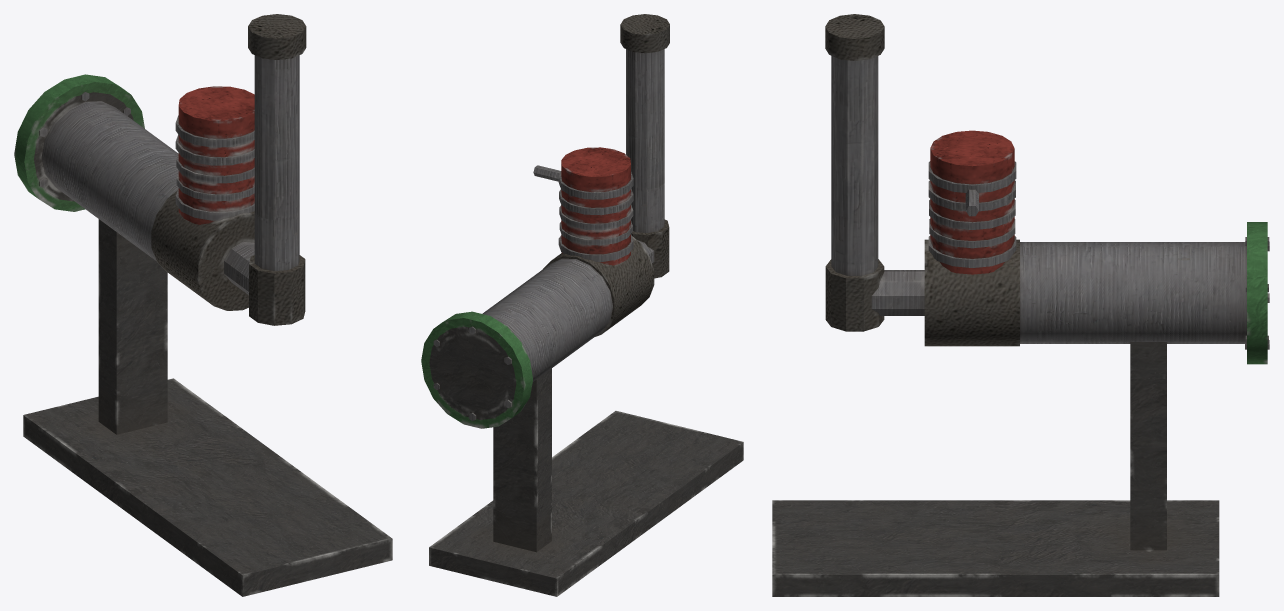
The model's file is feValveRelief_HD.fbx.
3 views of the same model, side by side, from view 1: azimuth 30°, elevation 25°; view 2: azimuth 150°, elevation 25°; view 3: azimuth 270°, elevation 25° (orthographic). The views are drawn at different scales.
Parts seen in each view (by area): view 1: feValveRelief_Base; view 2: feValveRelief_Base; view 3: feValveRelief_Base.
Part boxes in pixels (left/top/right/bottom): feValveRelief_Base: left=14, top=14, right=392, bottom=596; feValveRelief_Base: left=421, top=14, right=743, bottom=596; feValveRelief_Base: left=772, top=14, right=1269, bottom=596.
Bounding box in the file's own units: 0.3012 × 1 × 0.8466.
1 material, 1 textured.
